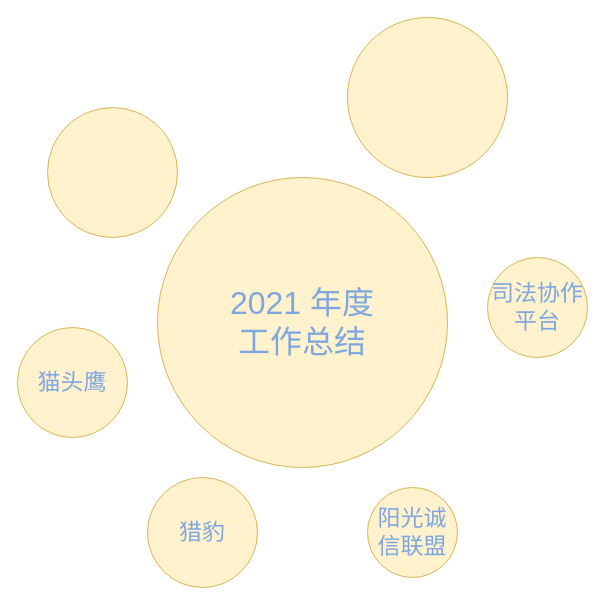
Some shapes in this 605 by 605 pixel diagram are drawn without their labels. The shapes that lost their labels are listed below. From the top down, each one's centre as x and y in pixels, then its label:
[427,97]: 大调查
[112,172]: 大黄蜂
